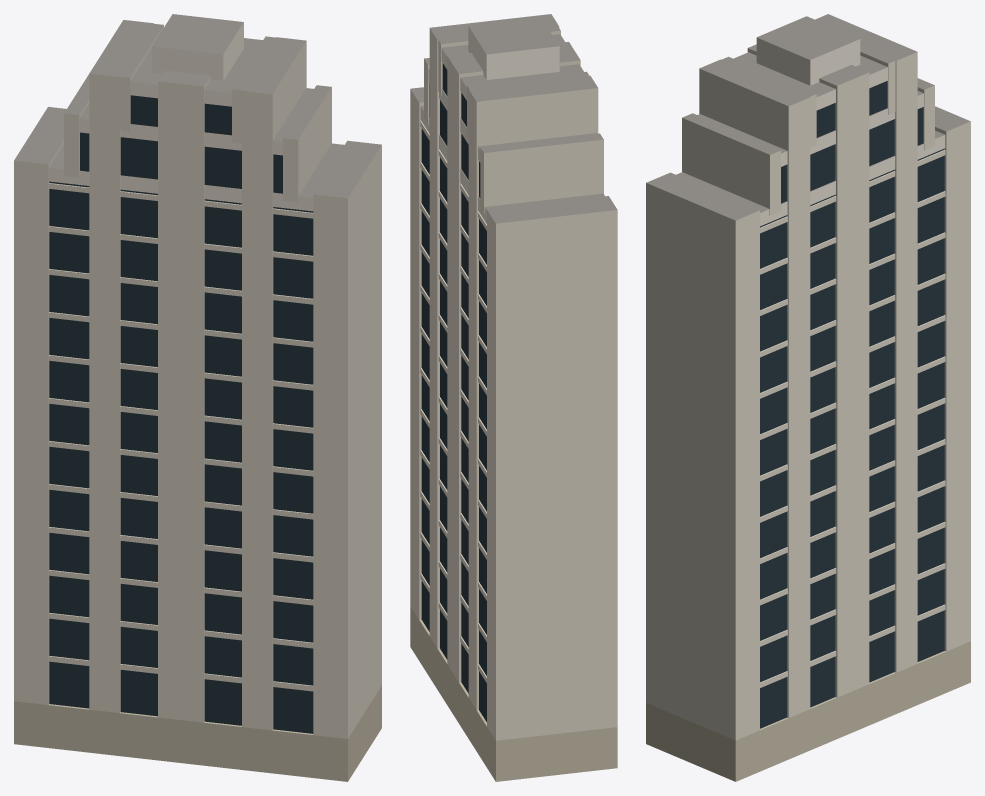
File: turnberry_place_w134677429.glb
3 renders of one model, left to right at view 1: azimuth 30°, elevation 25°; view 2: azimuth 150°, elevation 25°; view 3: azimuth 270°, elevation 25°, orthographic. The views are drawn at different scales.
Visible parts, largest first — view 1: CondoTower; view 2: CondoTower; view 3: CondoTower.
Boxes of the visible parts, x1,y1,x2,y2 form: CondoTower: [14, 14, 381, 781]; CondoTower: [410, 14, 617, 781]; CondoTower: [646, 14, 970, 781].
Size of the model in its own units: 64.06 by 147 by 64.06.
